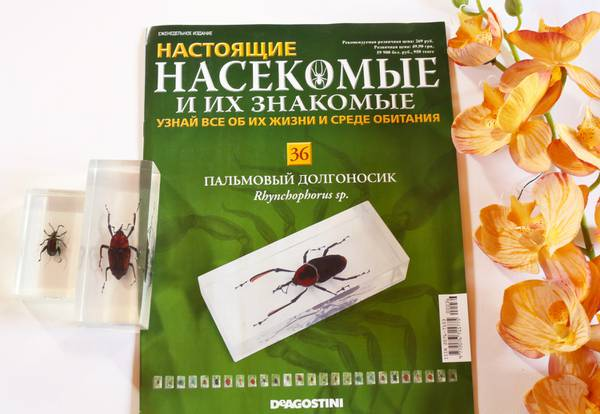dolgonosik: (238, 242, 377, 325), (102, 203, 145, 300), (37, 219, 70, 268)
